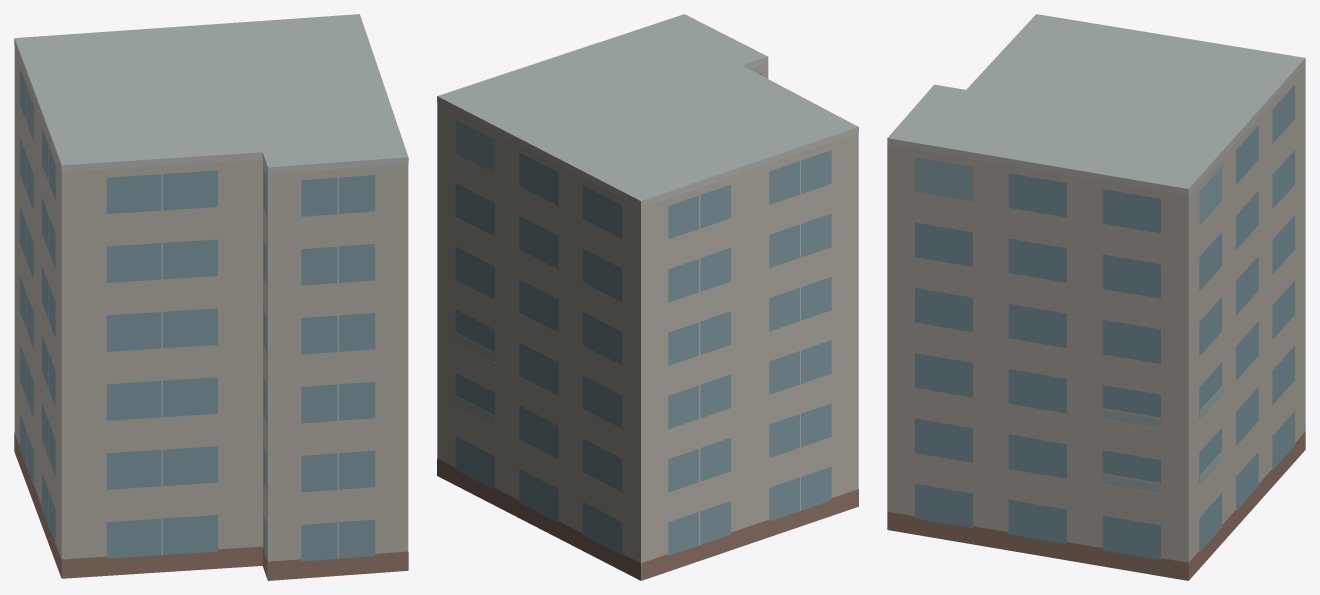
File: survey-upis-32851038.glb
3 renders of one model, left to right at view 1: azimuth 30°, elevation 25°; view 2: azimuth 150°, elevation 25°; view 3: azimuth 270°, elevation 25°, orthographic. The views are drawn at different scales.
Visible parts, largest first — view 1: survey-upis-32851038.tmp; view 2: survey-upis-32851038.tmp; view 3: survey-upis-32851038.tmp.
Part boxes in pixels (x1,y1,x2,y2): survey-upis-32851038.tmp: (14,14,408,580); survey-upis-32851038.tmp: (437,14,858,580); survey-upis-32851038.tmp: (887,14,1305,580).
Bounding box in the file's own units: 13.9 × 14.5 × 14.03.
